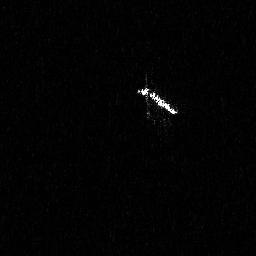ship: (136, 72, 180, 131)
